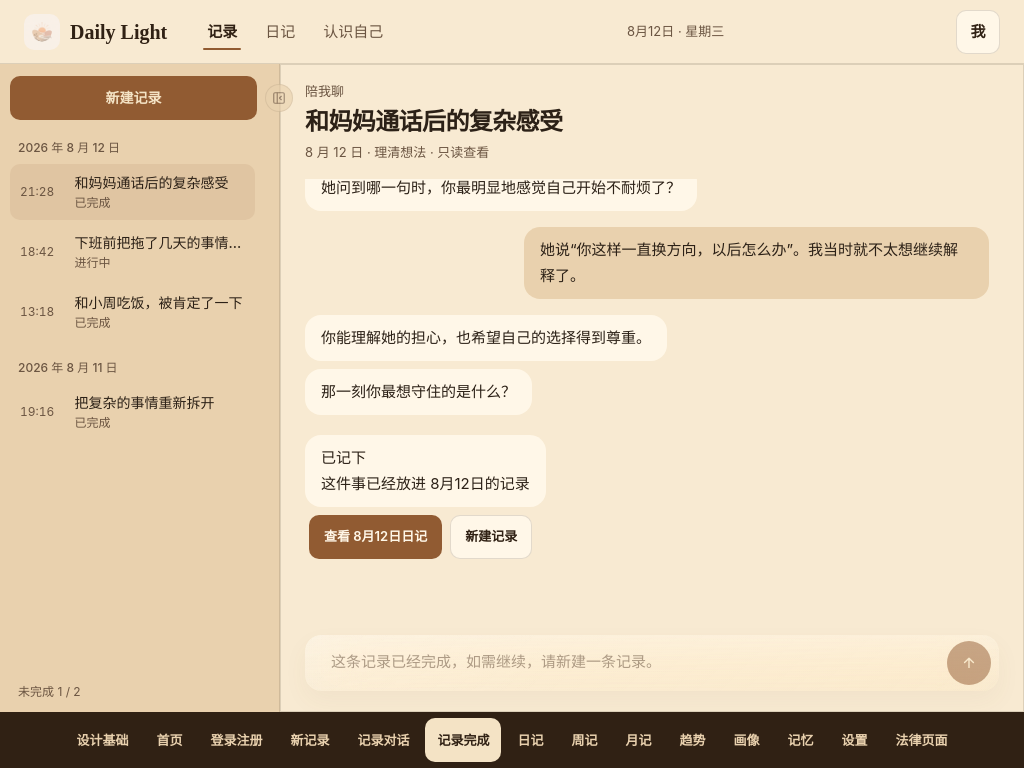
Daily Light 视觉验收入口 › 再记一件回到同一对话画布并重新选择记录方式
This screenshot has width=1024, height=768.
(page scrolled)
Click the 2nd button "新建记录". click: point(491, 537)
box: [450,515,532,559]
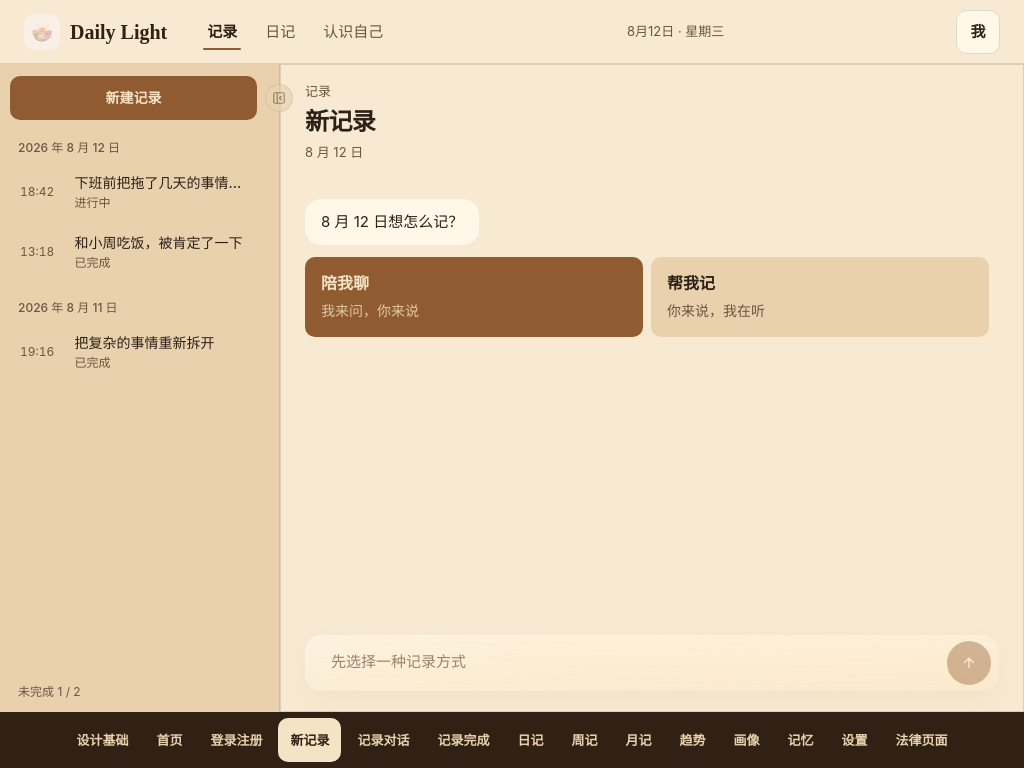
Now the text "8 月 12 日想怎么记？" is shown, box [321,209,463,235]
Now the text box with placeholder "先选择一种记录方式" is disabled, box [315,641,989,685]
Click the button "帮我记 你来说，我在听". click: point(691, 283)
box: [651,257,989,337]
Wait 450 ms
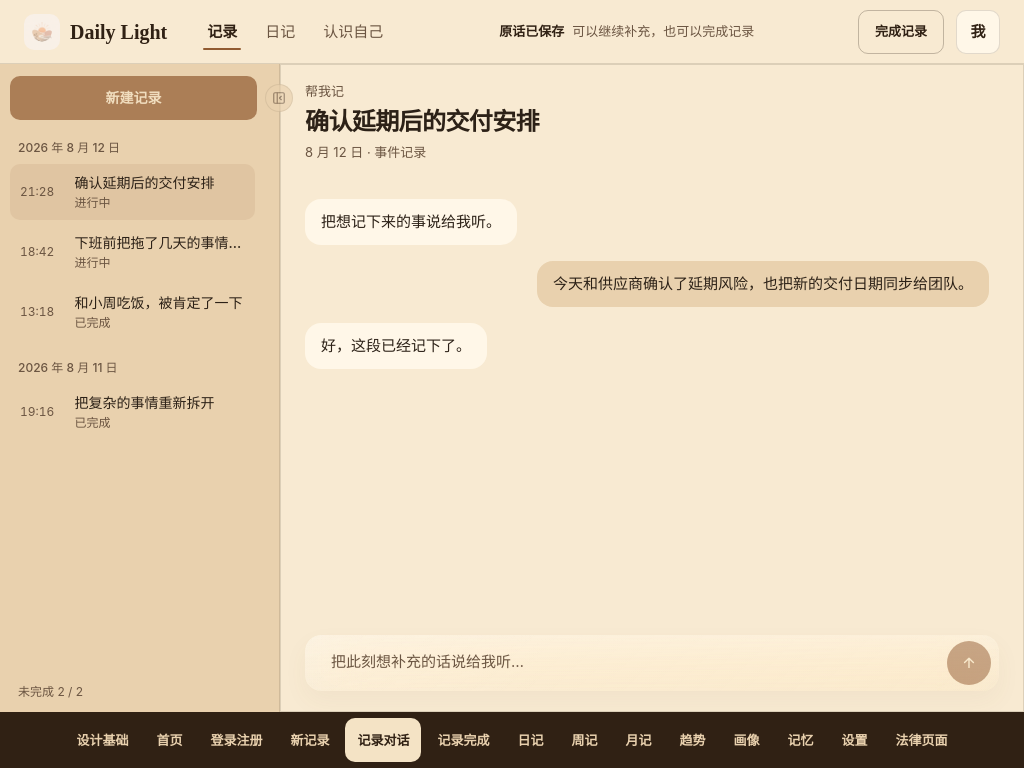
Now the text "帮我记" is shown, box [305,83,344,99]
Now the button "陪我聊" is gone
